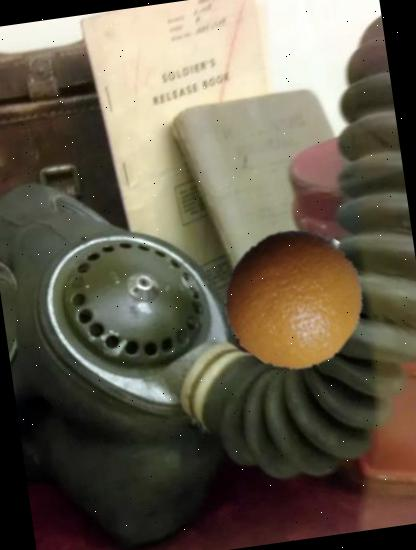Orange: (214, 216, 376, 378)
